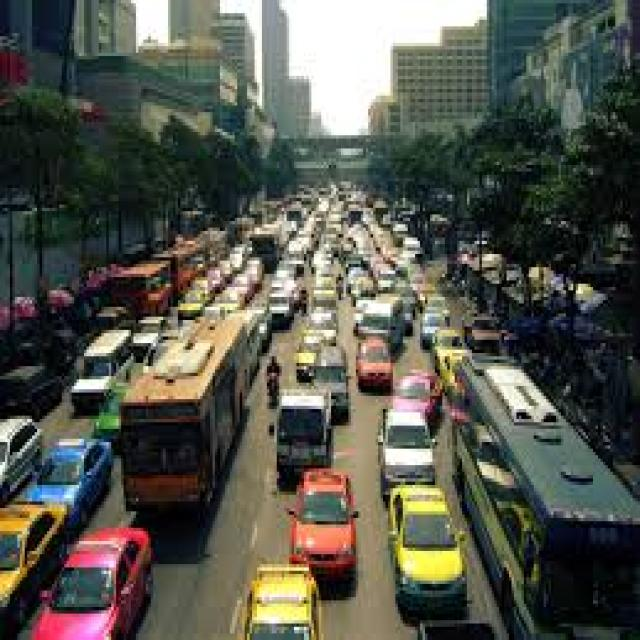bus: (455, 356, 638, 637), (121, 313, 257, 508)
car: (32, 528, 148, 640), (390, 485, 465, 617), (0, 505, 64, 637), (22, 439, 111, 531), (289, 468, 356, 577), (72, 330, 131, 416), (247, 564, 314, 637), (279, 389, 329, 485), (378, 409, 430, 498), (297, 307, 336, 419), (0, 416, 40, 505), (0, 366, 59, 419), (353, 294, 403, 353), (393, 369, 440, 429), (430, 320, 467, 393), (314, 346, 346, 422), (358, 336, 390, 393), (272, 267, 297, 330), (420, 297, 447, 350), (465, 317, 497, 353), (316, 277, 334, 290)
